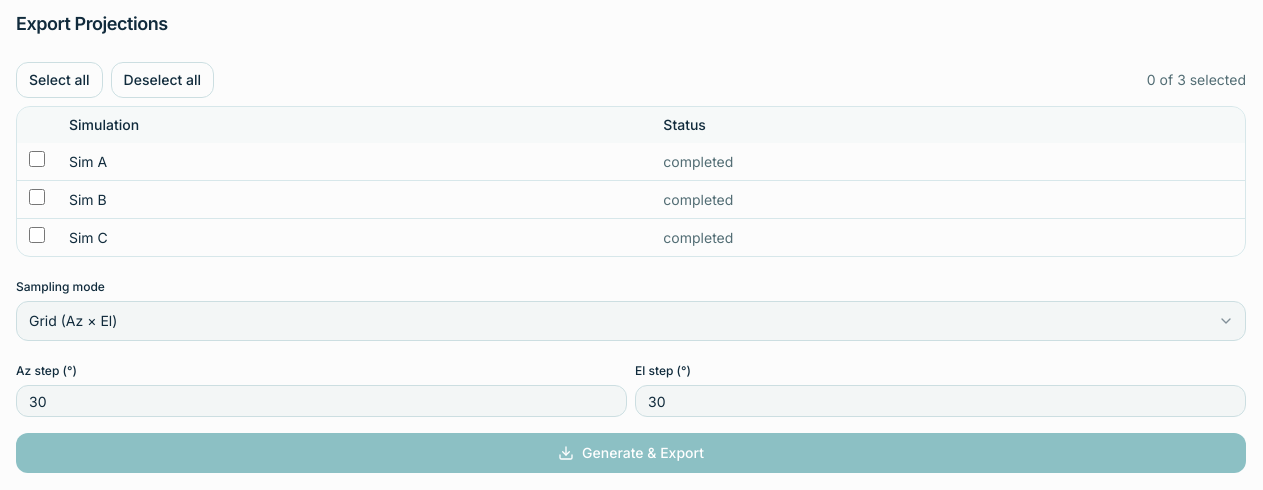
it: BatchProjectionExportPanel — Select all / Deselect all (T5.3) › clicking "Deselect all" unchecks all sim checkboxes
Select all first
Click the button "Select all": x=59, y=80 [16,62,103,98]
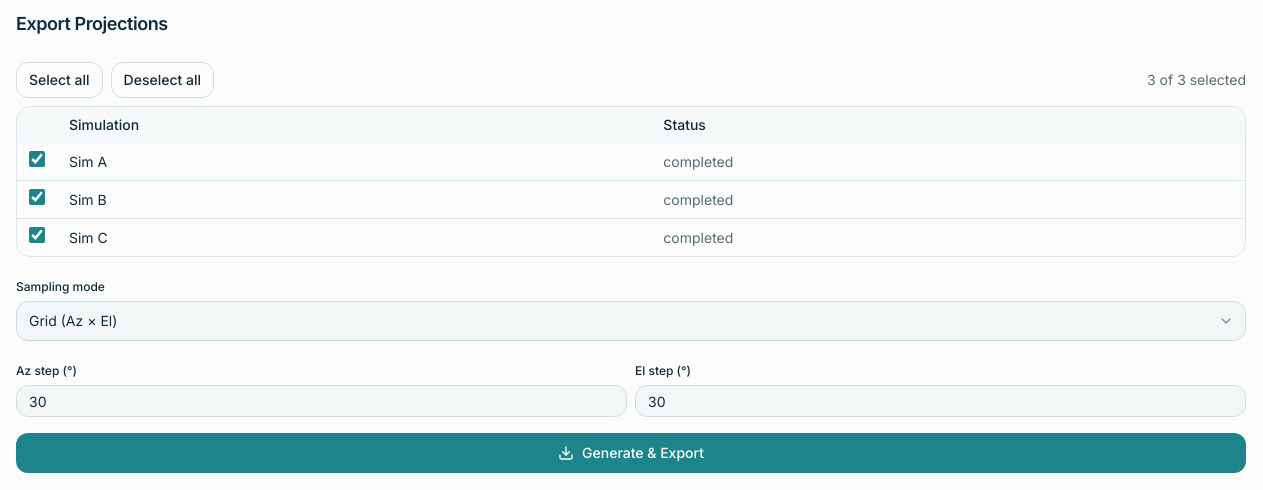
Then deselect all
Click the button "Deselect all": x=162, y=80 [111,62,214,98]
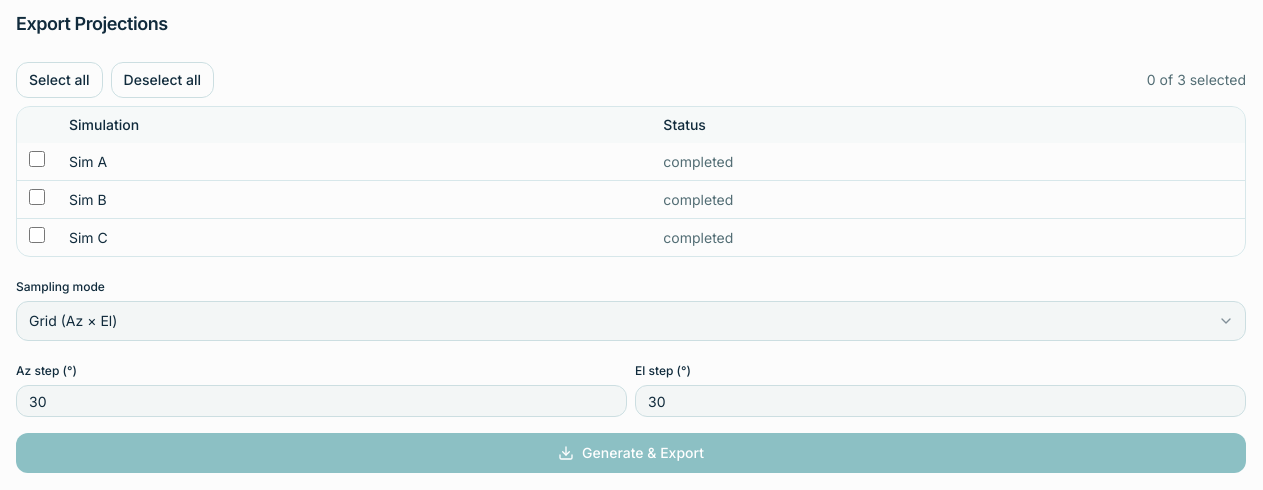
Expected: the checkbox named "Select Sim A" is not checked, [29,151,45,167]
Expected: the checkbox named "Select Sim B" is not checked, [29,189,45,205]
